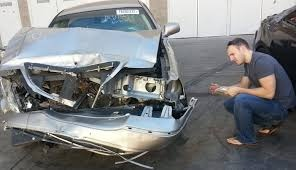Smashed: (1, 28, 193, 156)
